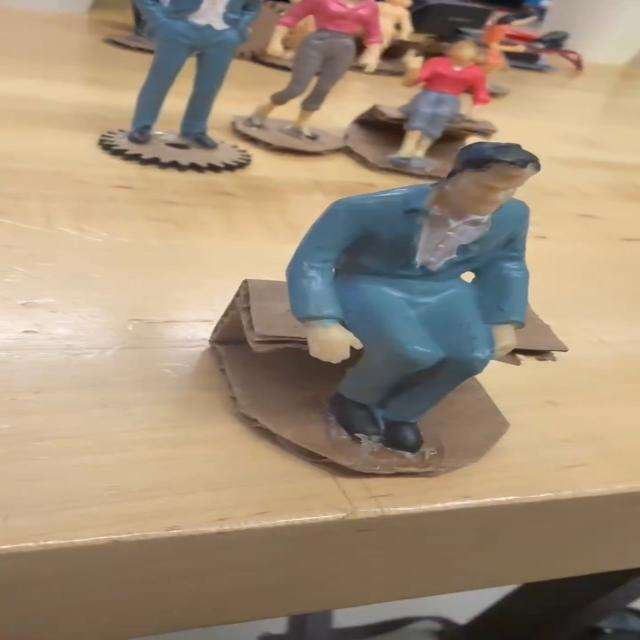Authorized: (233, 139, 559, 472)
